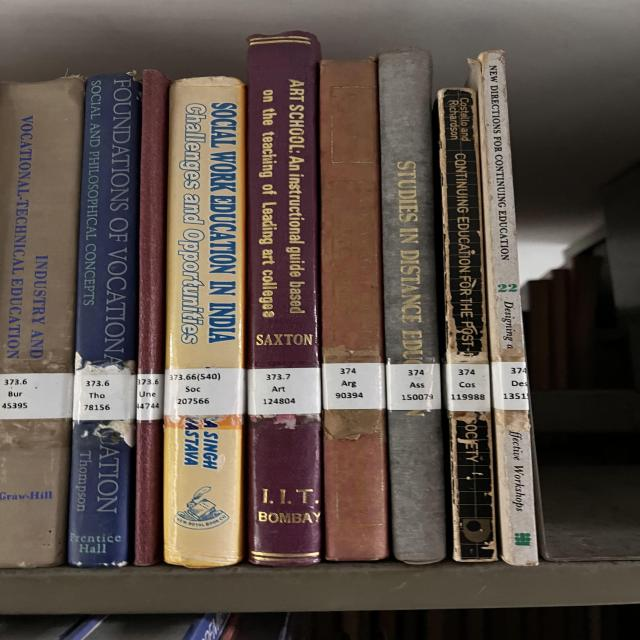Book: (0, 76, 85, 568), (247, 31, 323, 566), (163, 78, 245, 568), (68, 74, 142, 568), (378, 49, 447, 564), (320, 59, 388, 561), (472, 51, 538, 565), (438, 89, 497, 561), (133, 70, 170, 566)
Label: (165, 369, 245, 415), (247, 368, 322, 415), (0, 372, 73, 420), (322, 362, 385, 410), (73, 374, 137, 420), (385, 364, 442, 410), (445, 364, 490, 411), (492, 361, 530, 410), (137, 374, 165, 421)
